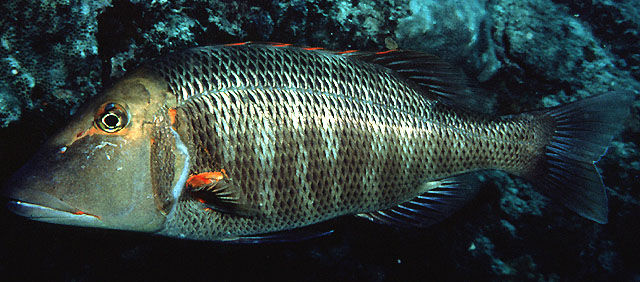fish: (13, 42, 628, 243)
